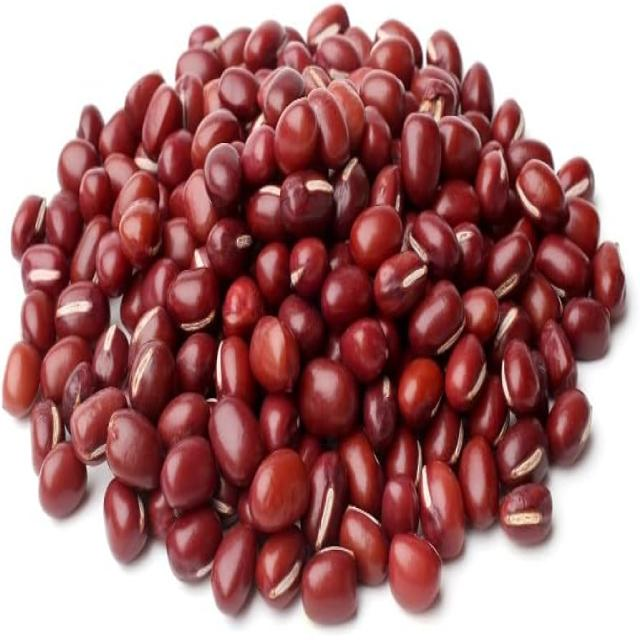frijoles: (1, 2, 632, 635)
